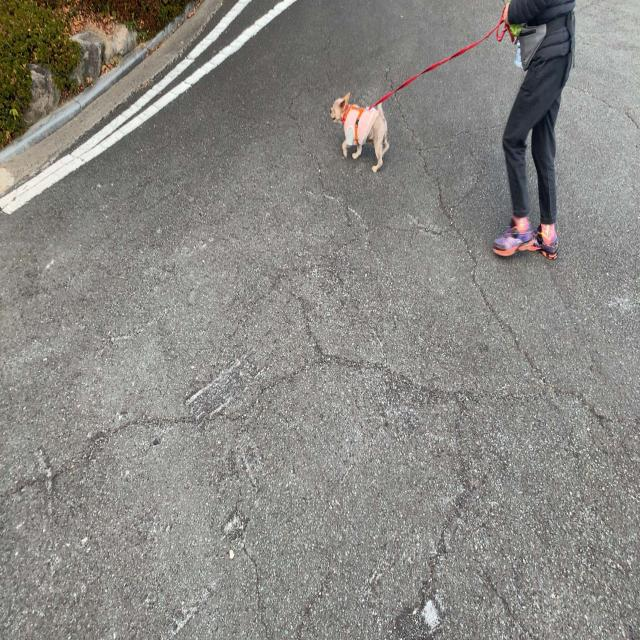Leashed_Dog: (330, 2, 534, 175)
